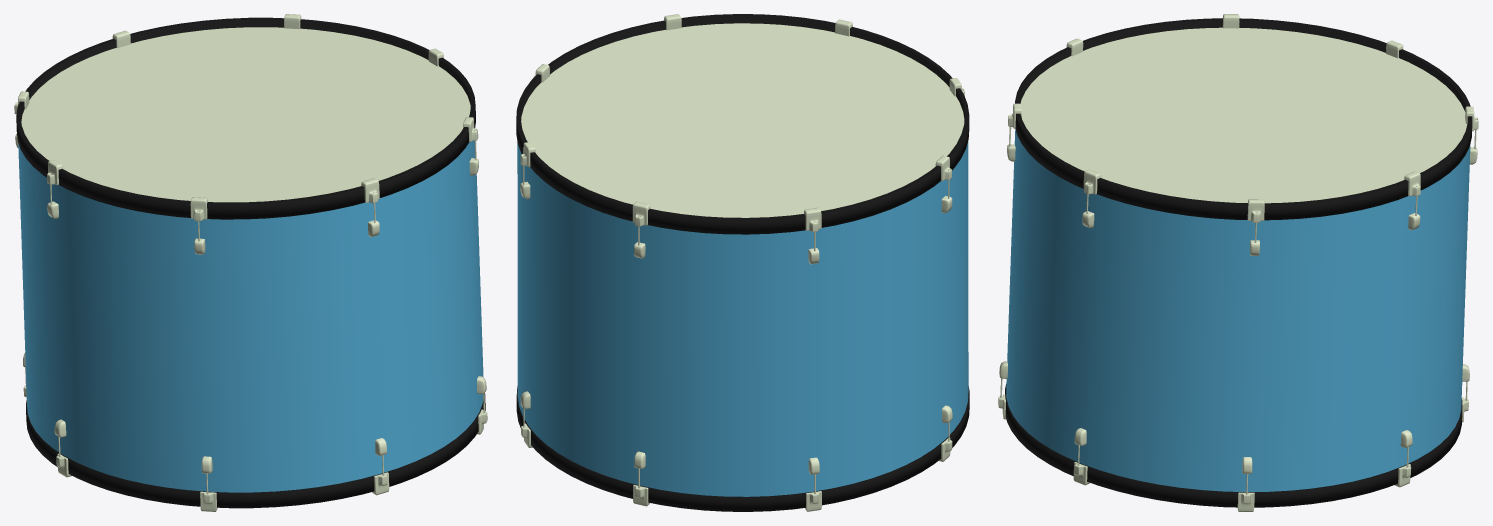
File: Drum.fbx
The picture shows the model from 3 angles, left to right: view 1: azimuth 30°, elevation 25°; view 2: azimuth 150°, elevation 25°; view 3: azimuth 270°, elevation 25°; orthographic projection.
Parts seen in each view (by area): view 1: Bass Drum; view 2: Bass Drum; view 3: Bass Drum.
Part boxes in pixels (x1=…): Bass Drum: x1=14, y1=14, x2=487, y2=511; Bass Drum: x1=516, y1=14, x2=969, y2=511; Bass Drum: x1=998, y1=14, x2=1478, y2=511.
Bounding box in the file's own units: 57.43 × 42.86 × 57.96.
